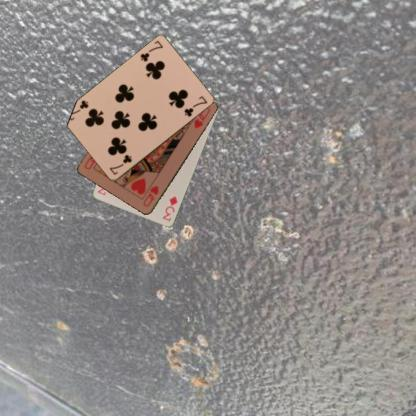3d: (160, 194, 179, 223)
7c: (107, 152, 133, 177), (138, 38, 164, 63)
Qh: (140, 183, 160, 208)
